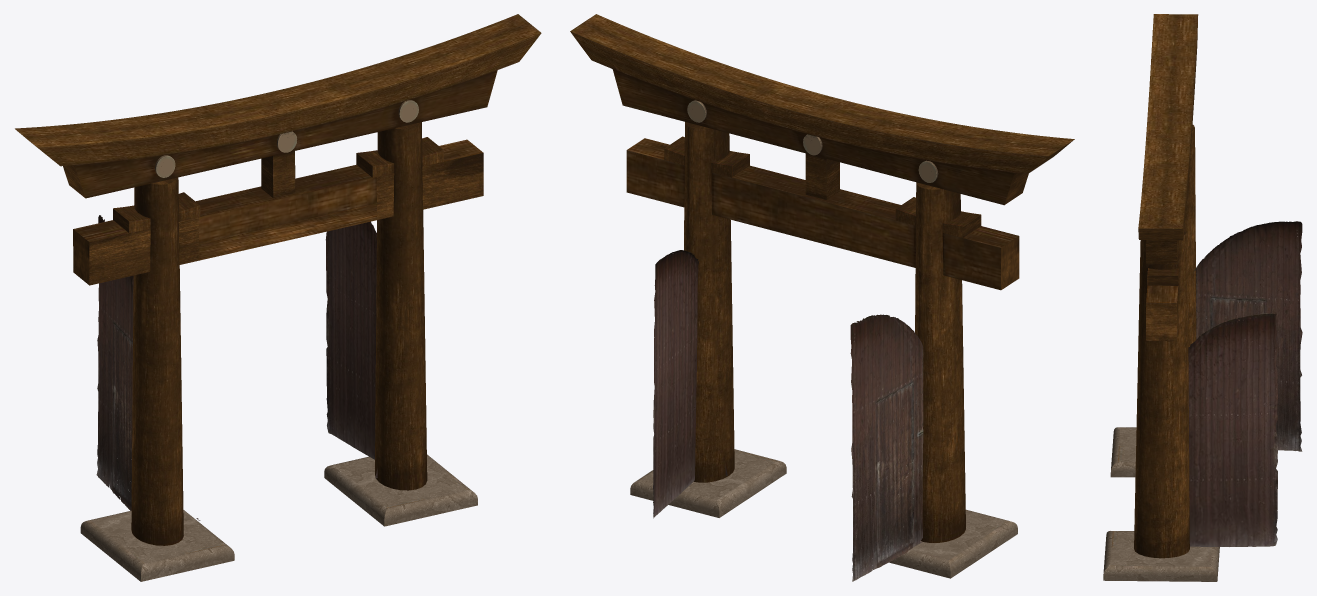
The model's file is cong.glb.
3 renders of one model, left to right at view 1: azimuth 30°, elevation 25°; view 2: azimuth 150°, elevation 25°; view 3: azimuth 270°, elevation 25°, orthographic. The views are drawn at different scales.
Visible parts, largest first — view 1: Object_2.005; view 2: Object_2.005; view 3: Object_2.005.
Boxes of the visible parts, box(x1,y1,x2,y2) form: Object_2.005: box(15, 14, 541, 581); Object_2.005: box(570, 14, 1074, 581); Object_2.005: box(1103, 14, 1302, 581).
Size of the model in its own units: 6.52 by 5.49 by 2.55.
Materials: 3 (3 with a texture image).
